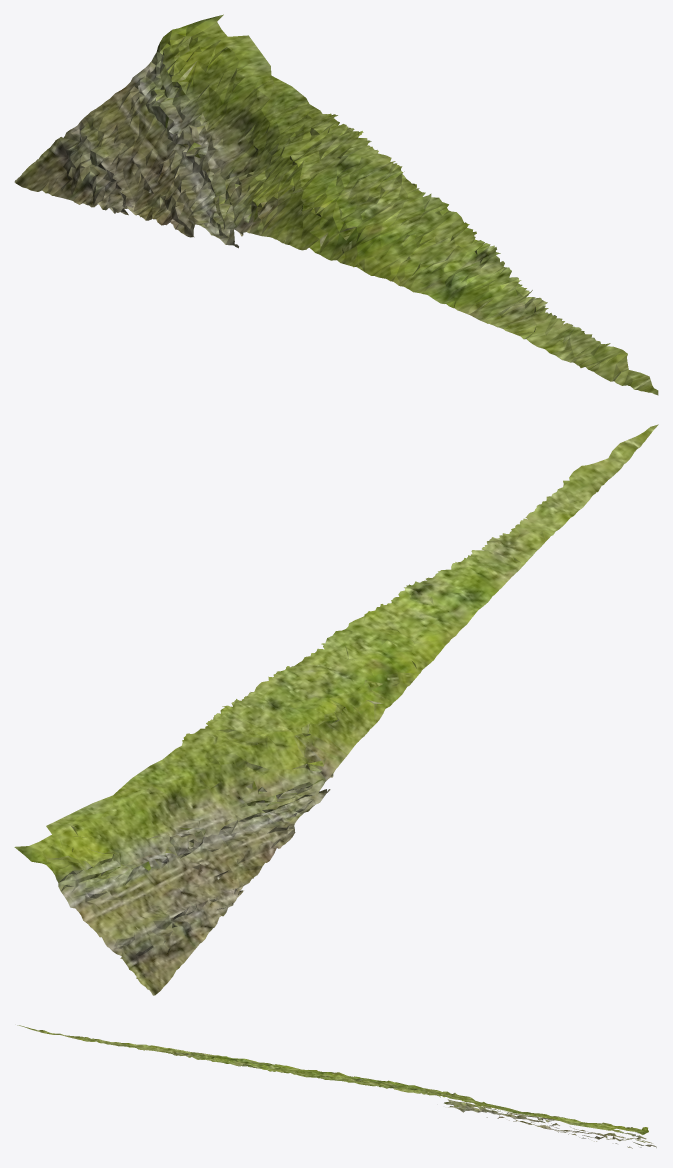
3 views of the same model, one above another, from view 1: azimuth 30°, elevation 25°; view 2: azimuth 150°, elevation 25°; view 3: azimuth 270°, elevation 25° (orthographic). The views are drawn at different scales.
Size of the model in its own units: 2.64 by 3.34 by 15.13.
Materials: 1 (1 with a texture image).
